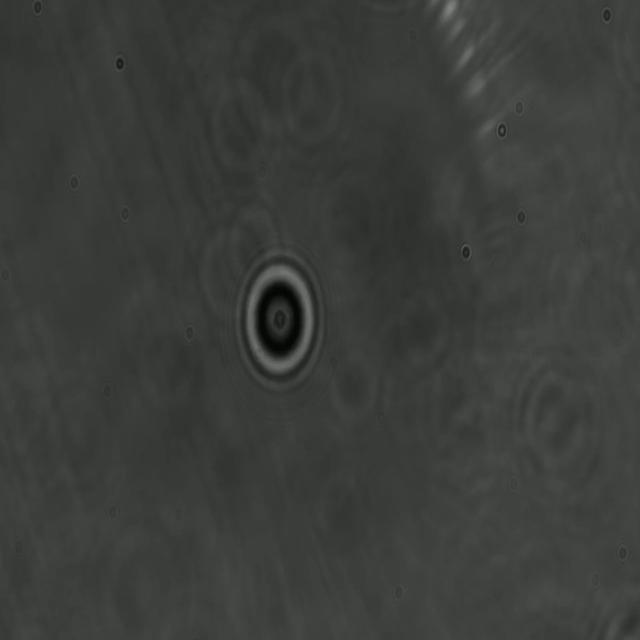LCELL: (235, 244, 329, 397)
